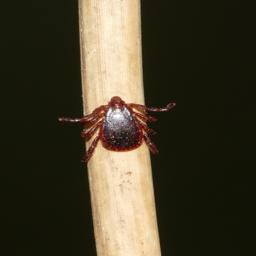Rhipicephalus sanguineus: (57, 96, 175, 162)
